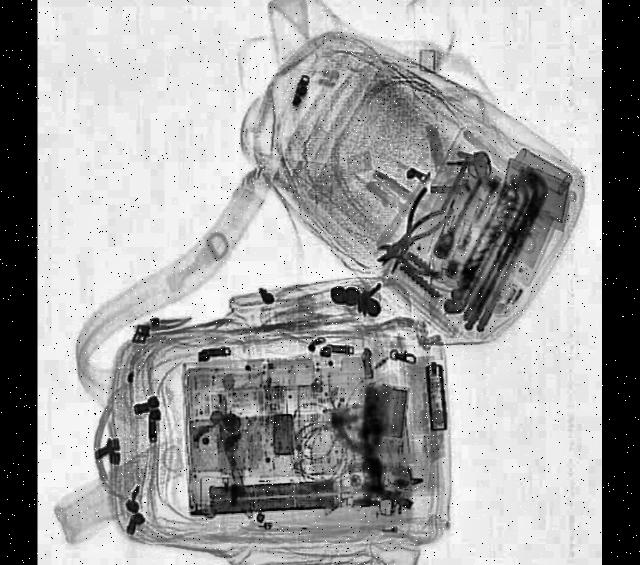Pliers: (375, 184, 454, 284)
